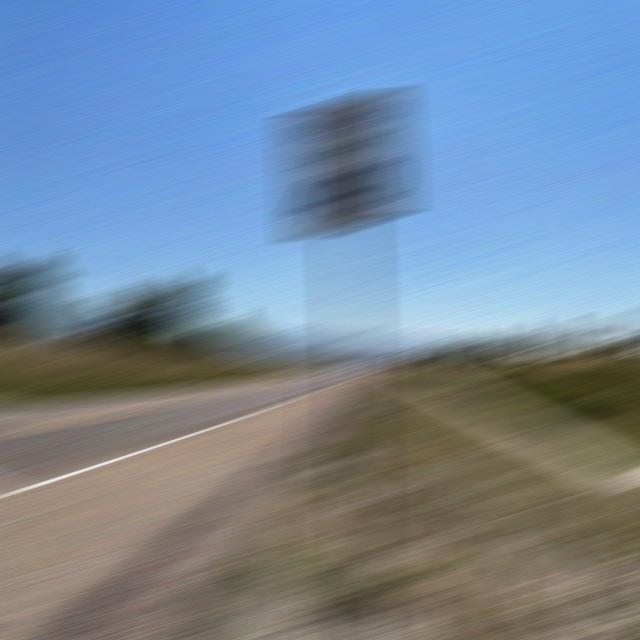speedLimit40: (294, 93, 399, 237)
